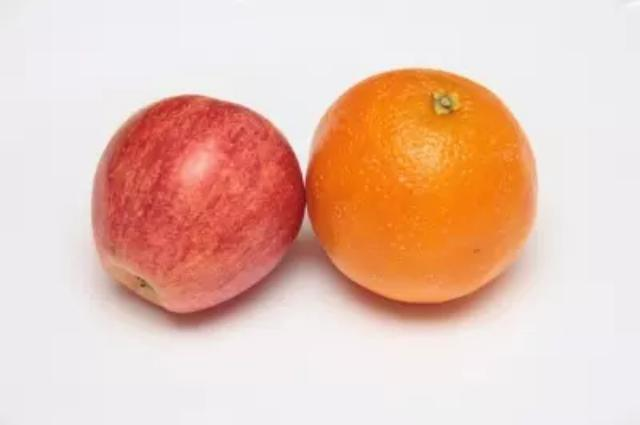Apples: (93, 94, 307, 316)
Oranges: (308, 66, 538, 306)
